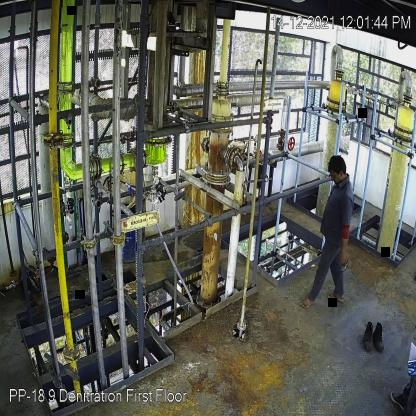no_shoes: (327, 292, 346, 306), (302, 292, 316, 307)
shoes: (360, 319, 375, 352), (374, 323, 386, 351)
